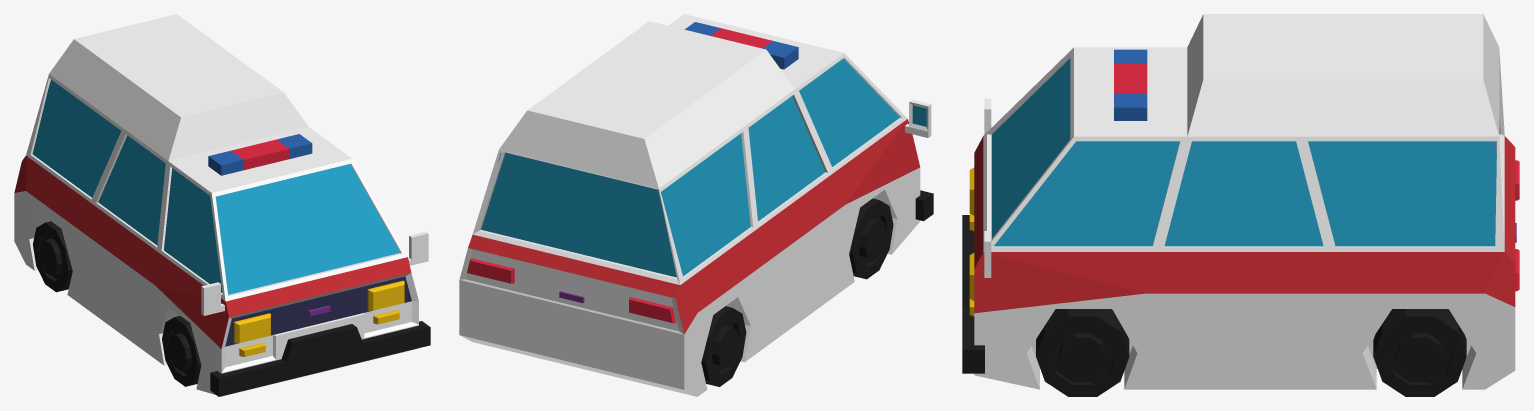
Rendered from ambulance.glb.
3 renders of one model, left to right at view 1: azimuth 30°, elevation 25°; view 2: azimuth 150°, elevation 25°; view 3: azimuth 270°, elevation 25°, orthographic. The views are drawn at different scales.
Parts seen in each view (by area): view 1: ambulamce; view 2: ambulamce; view 3: ambulamce.
Part boxes in pixels (bbox=[...]): ambulamce: bbox=[14, 14, 430, 396]; ambulamce: bbox=[459, 14, 933, 396]; ambulamce: bbox=[962, 14, 1519, 396].
Bounding box in the file's own units: 4.39 × 4.1 × 7.21.
Materials: 1 (1 with a texture image).
